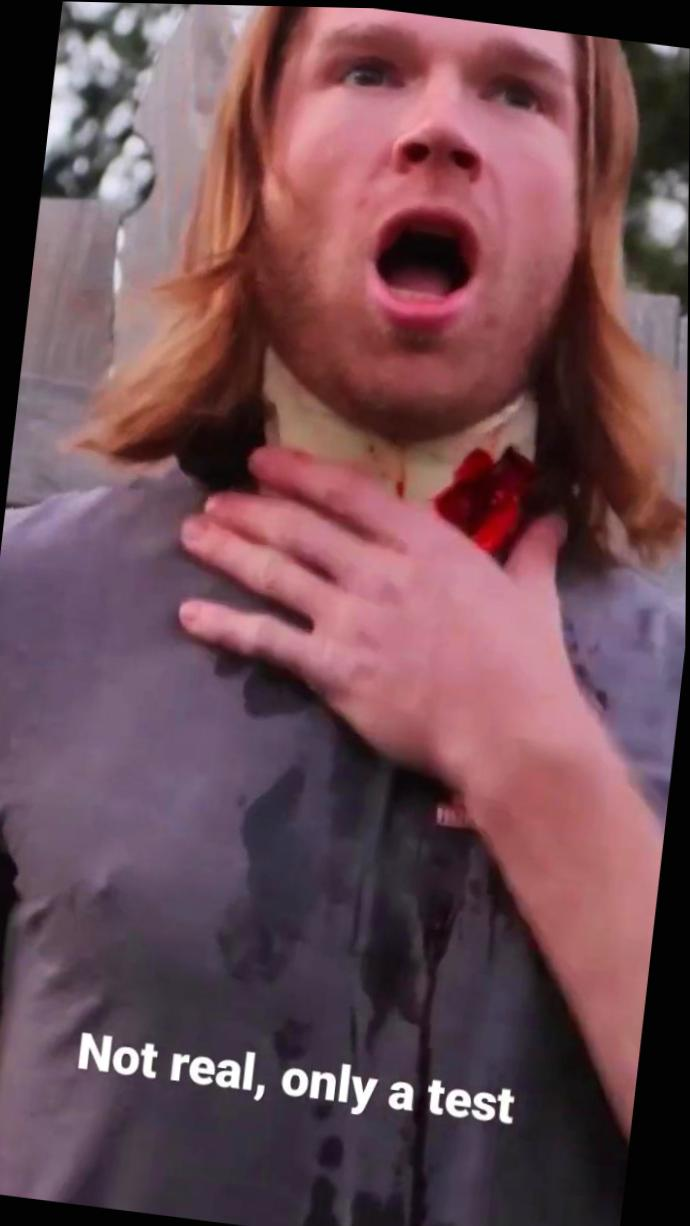Fire: (435, 443, 539, 554), (369, 433, 454, 499)
